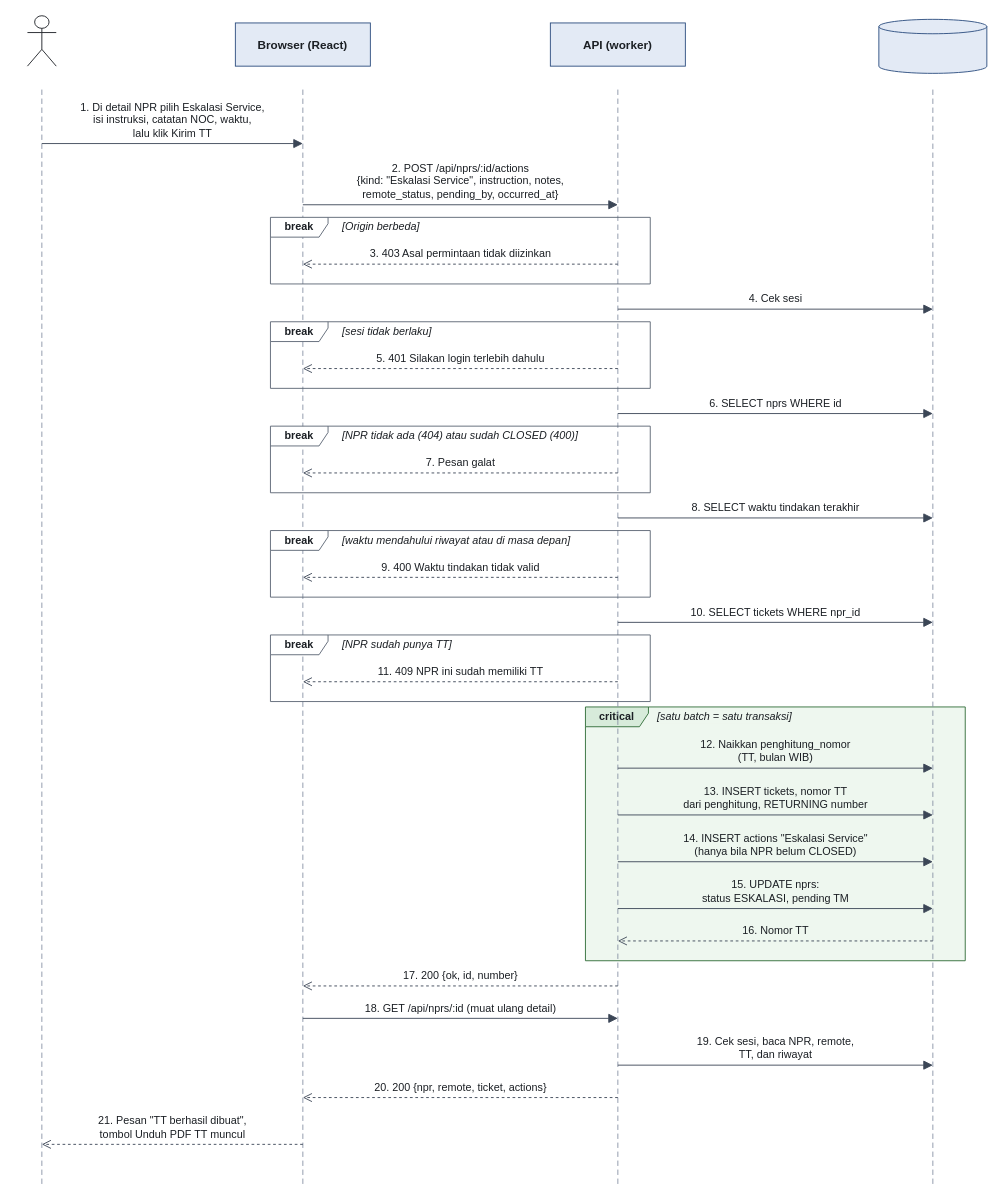
Some shapes in this 1003 by 1202 pixel diagram are drawn without their labels. Each missing label, with the centre of its shape:
"Database" belongs at pixel 932 45.
"Helpdesk" belongs at pixel 41 40.
